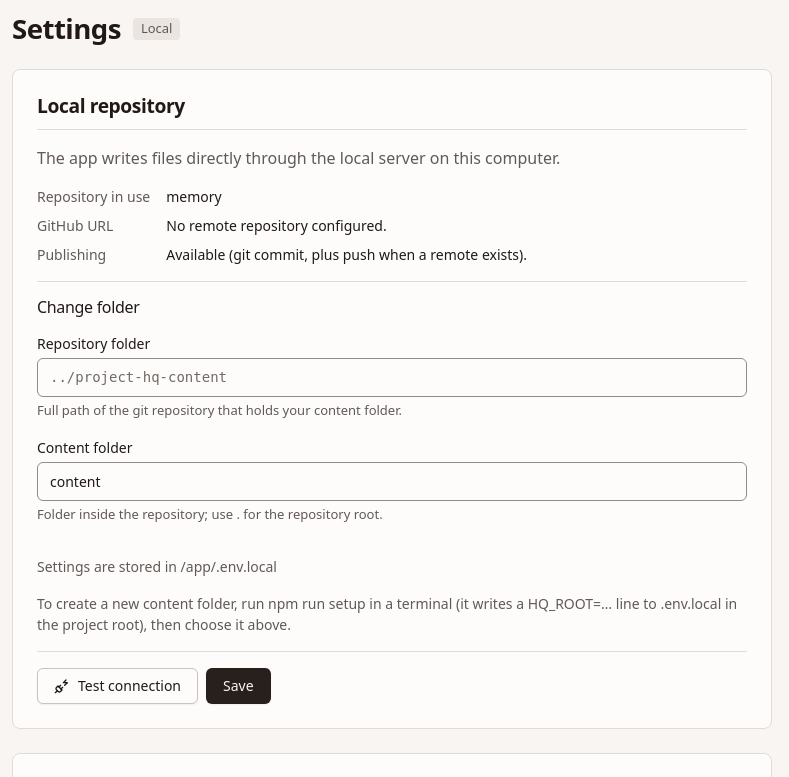
local repository form › asks for a folder before testing or saving
Click the button "Test connection": (118, 686) top-left (37, 668), bottom-right (198, 704)
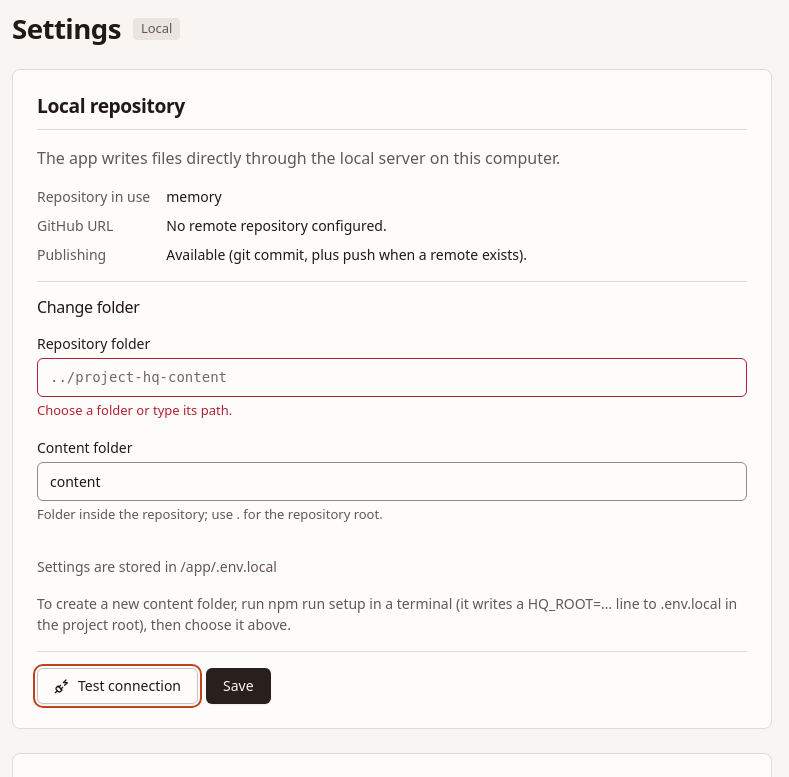
Expected: the text "Choose a folder or type its path." is shown, top-left (37, 401), bottom-right (232, 419)
